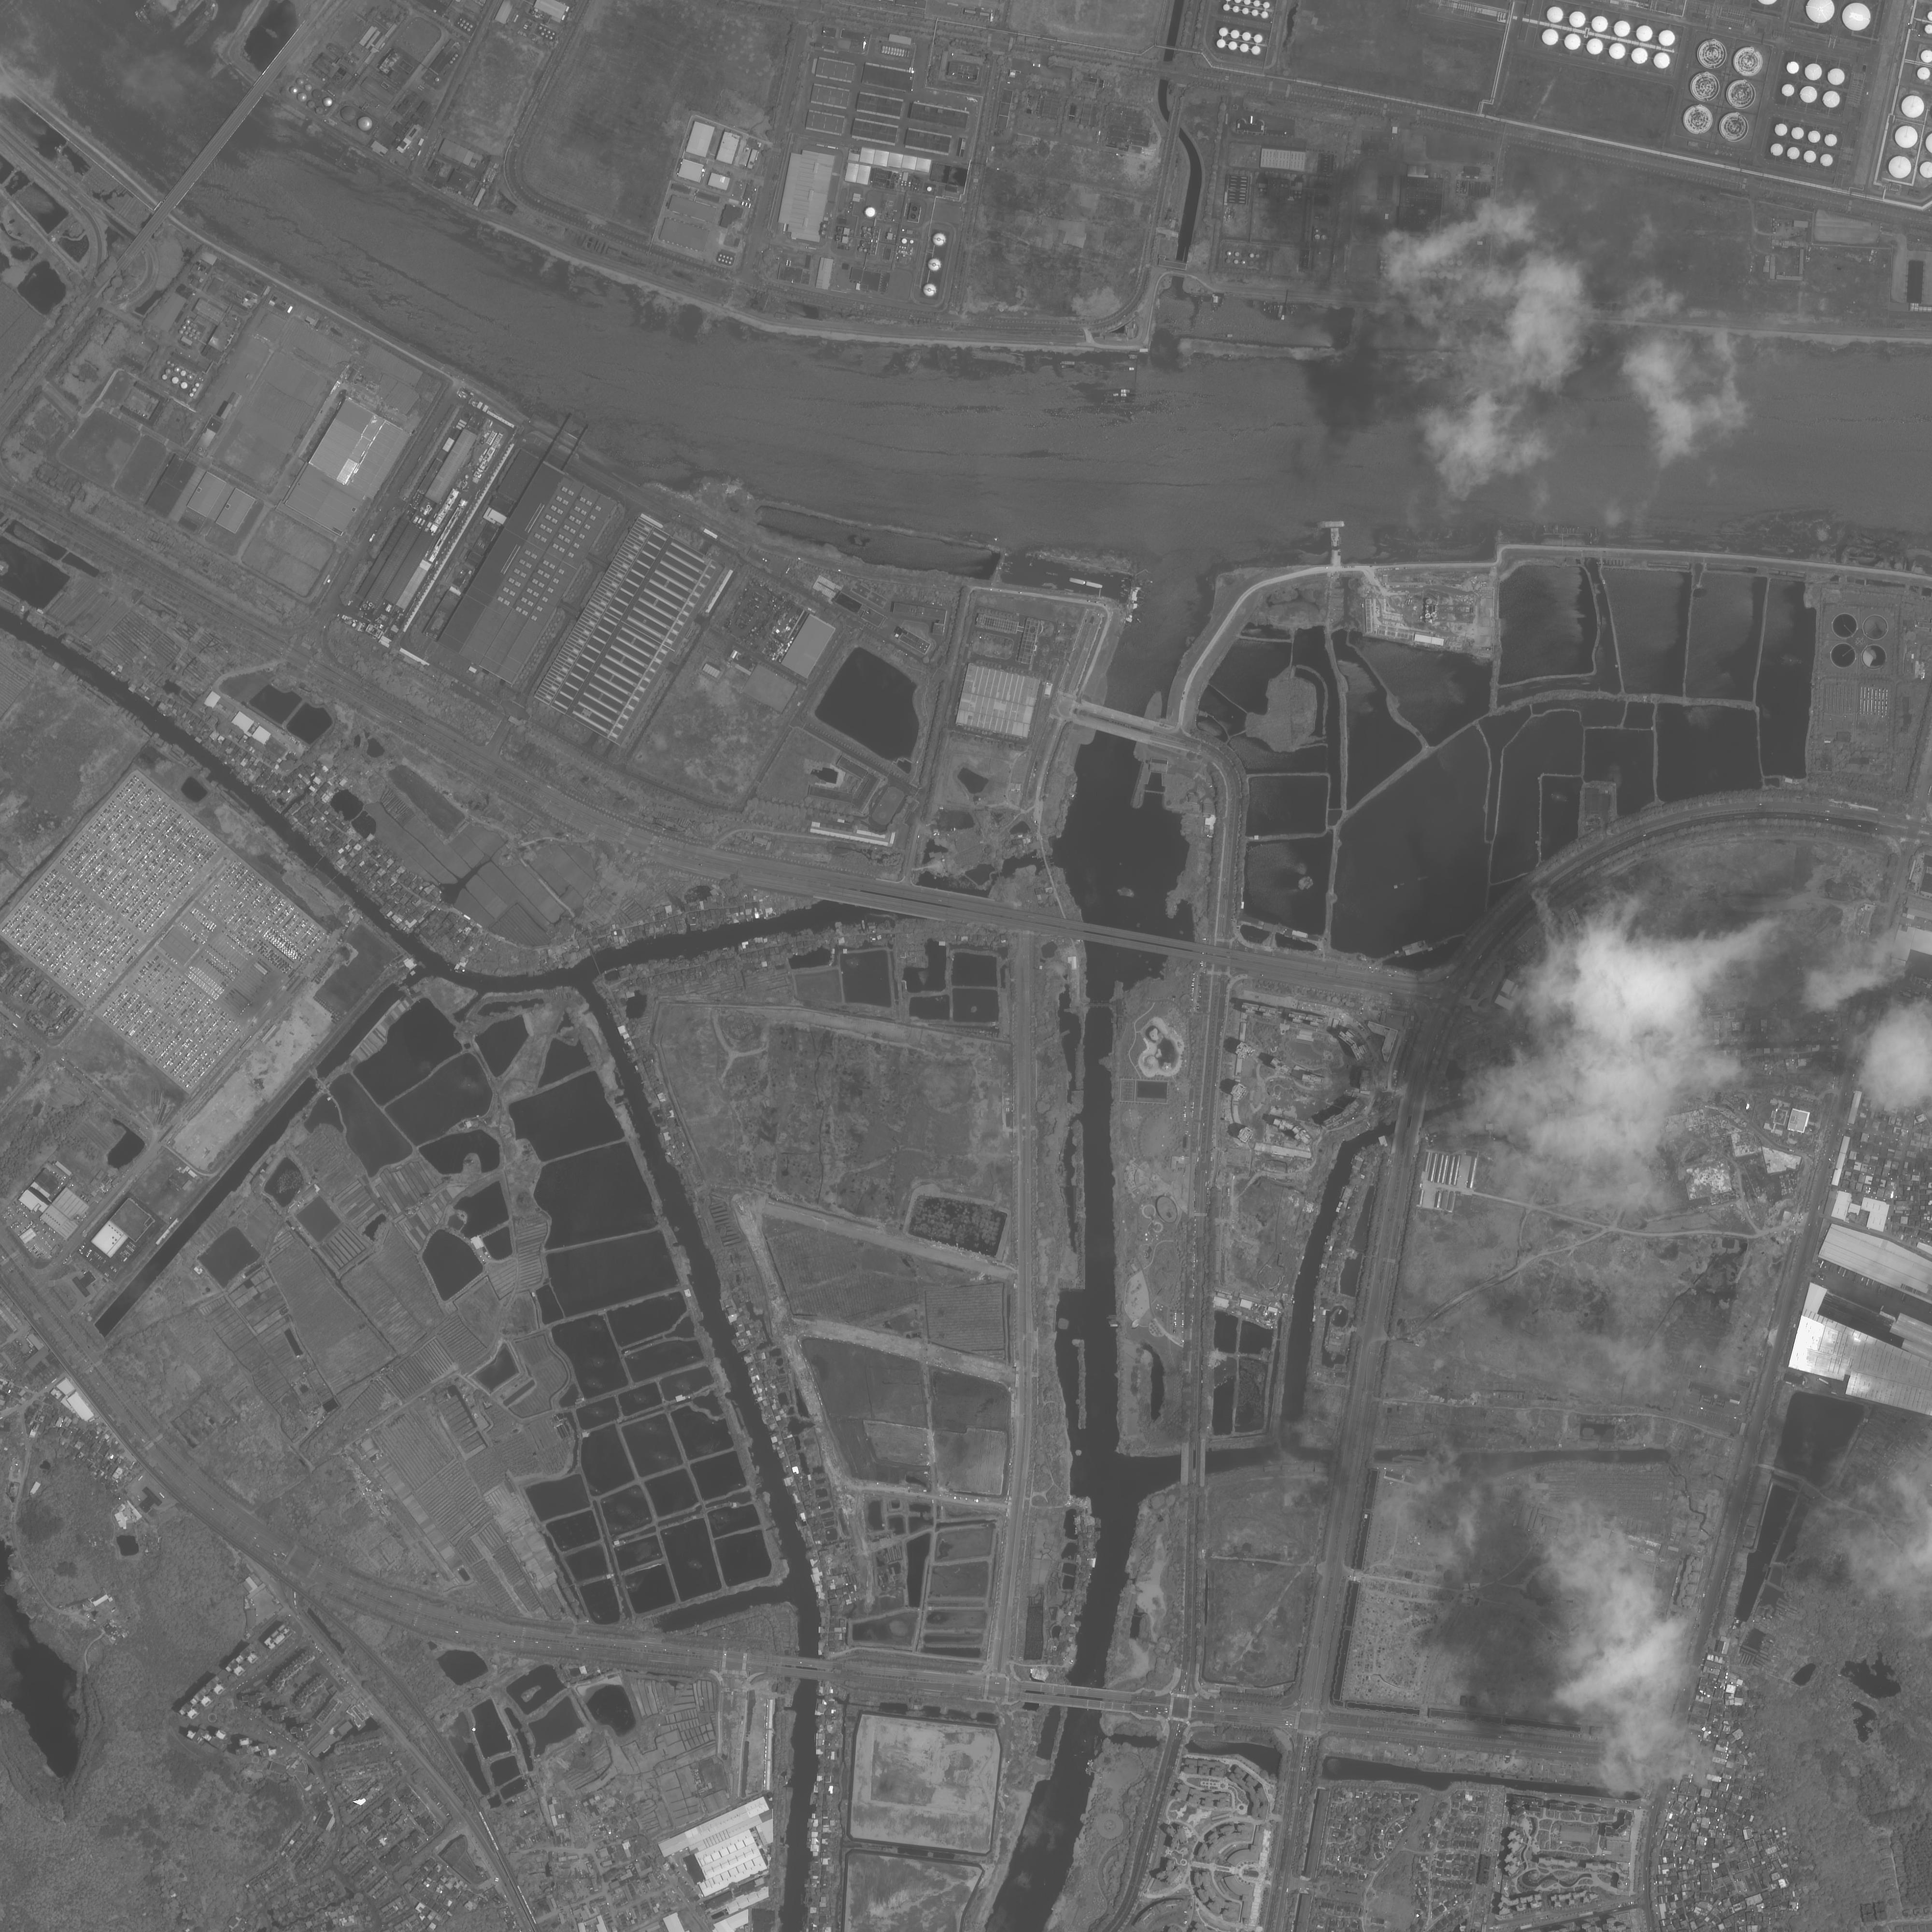harbor: (1318, 520, 1345, 529)
